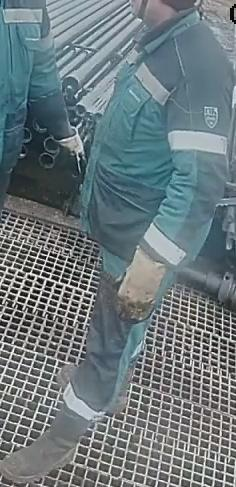gloves: (114, 245, 167, 322), (54, 128, 87, 176)
vest: (77, 8, 235, 271), (0, 0, 58, 169)
